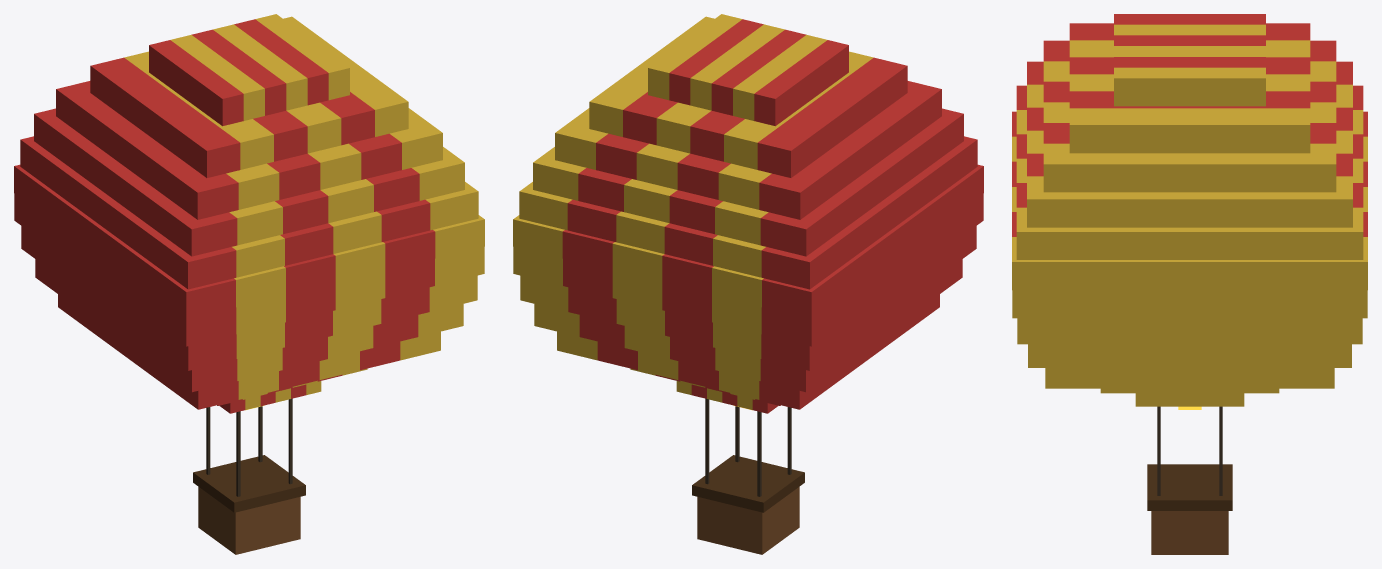
Rendered from th-balloon.glb.
3 views of the same model, side by side, from view 1: azimuth 30°, elevation 25°; view 2: azimuth 150°, elevation 25°; view 3: azimuth 270°, elevation 25° (orthographic). The views are drawn at different scales.
Visible parts, largest first — view 1: box-prop; view 2: box-prop; view 3: box-prop.
Boxes of the visible parts, left/top/right/bottom form: box-prop: left=14, top=14, right=484, bottom=554; box-prop: left=513, top=14, right=983, bottom=554; box-prop: left=1012, top=14, right=1367, bottom=554.
Size of the model in its own units: 4.59 by 7 by 4.59.
